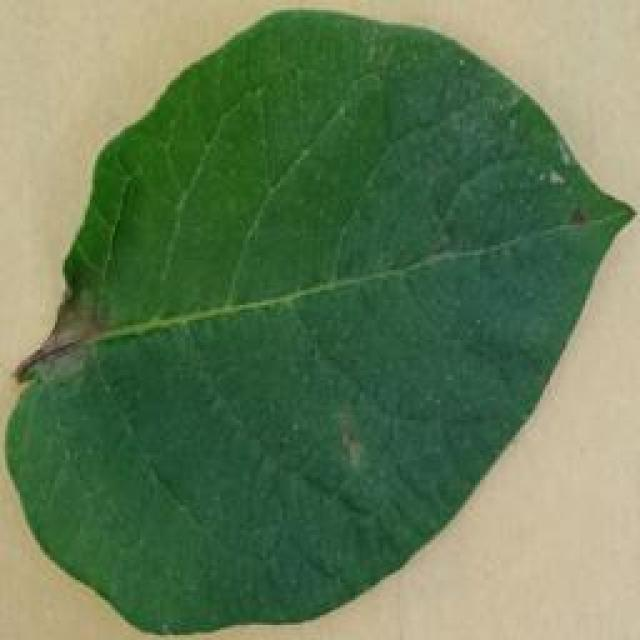Potato_Late_Blight: (12, 12, 632, 640)
